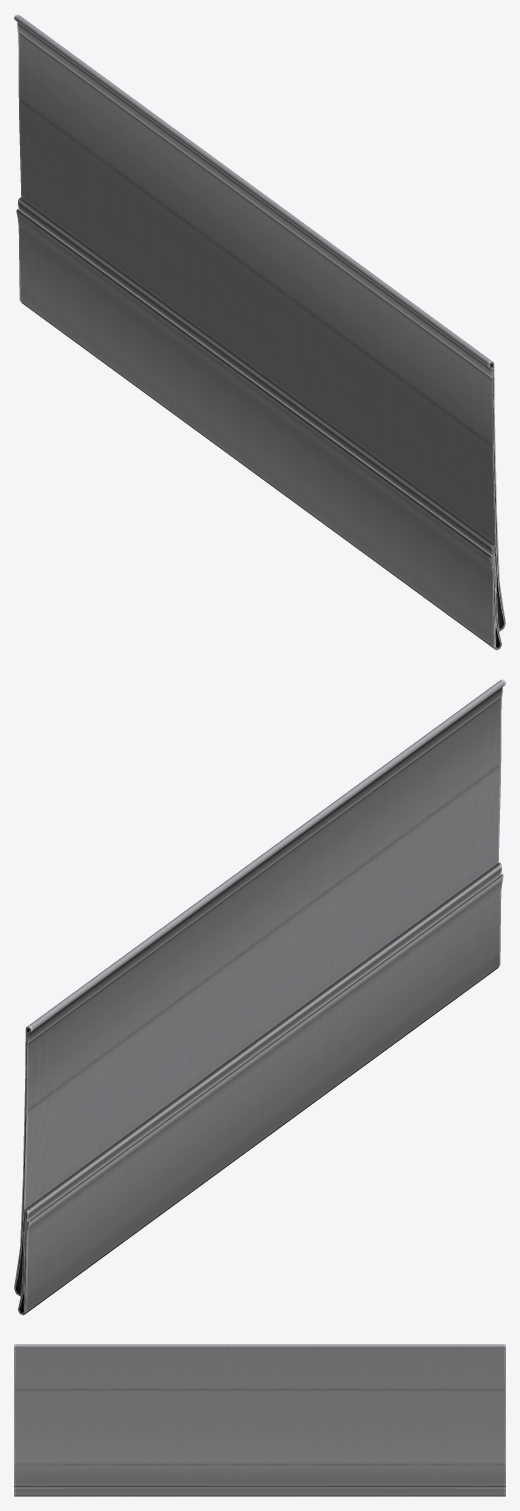
Rendered from Curtain02B.FBX.
The picture shows the model from 3 angles, top to bottom: view 1: azimuth 30°, elevation 25°; view 2: azimuth 150°, elevation 25°; view 3: azimuth 270°, elevation 25°; orthographic projection. The views are drawn at different scales.
Visible parts, largest first — view 1: Curtain02B; view 2: Curtain02B; view 3: Curtain02B.
Part boxes in pixels (bbox=[...]): Curtain02B: bbox=[14, 14, 505, 650]; Curtain02B: bbox=[14, 679, 505, 1315]; Curtain02B: bbox=[14, 1344, 505, 1496].
Bounding box in the file's own units: 4.91 × 232 × 78.02.
